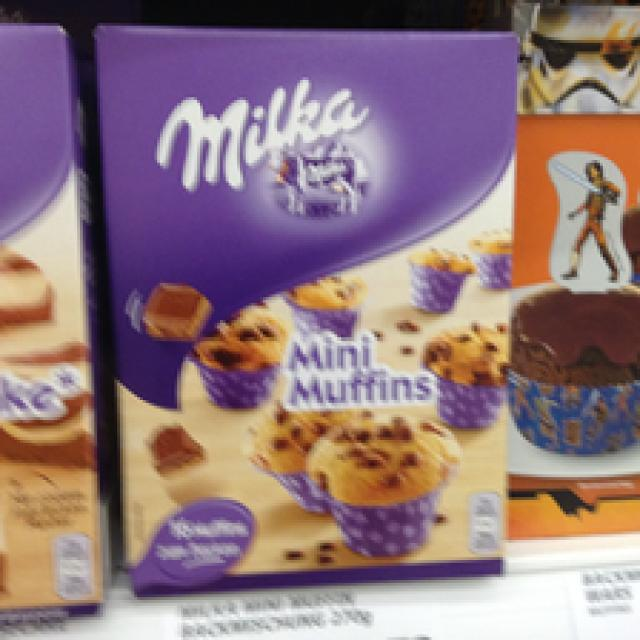groceries: (86, 17, 523, 592)
